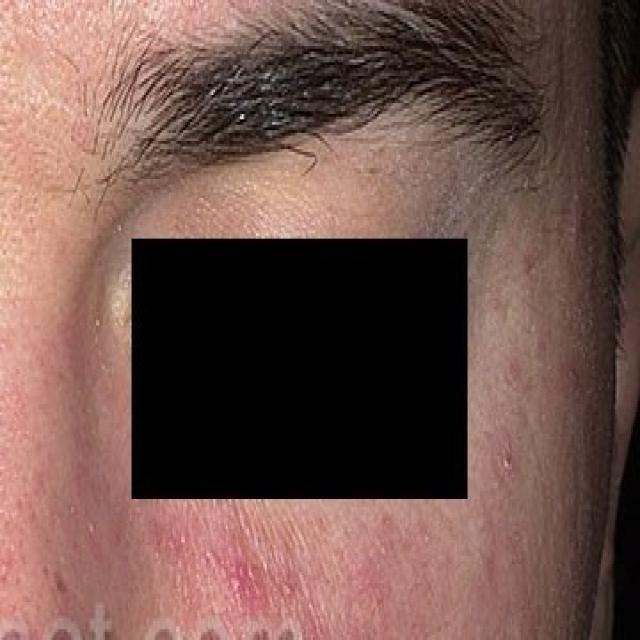Rosacea: (119, 509, 538, 640)
